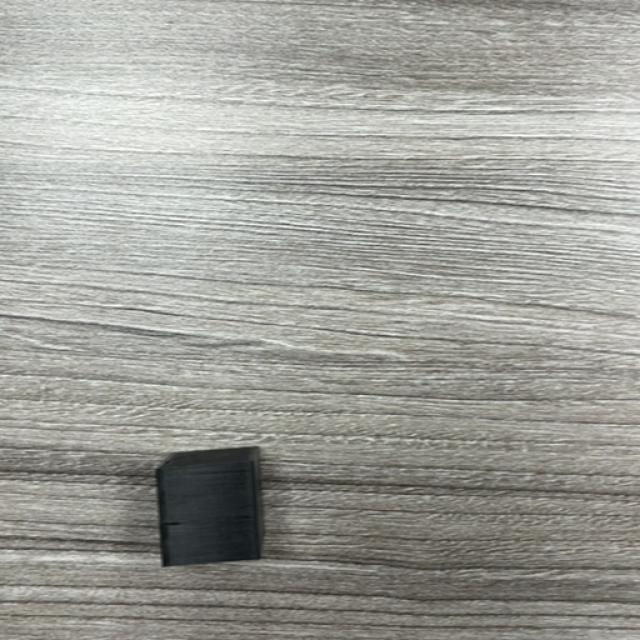Negro: (154, 448, 262, 568)
